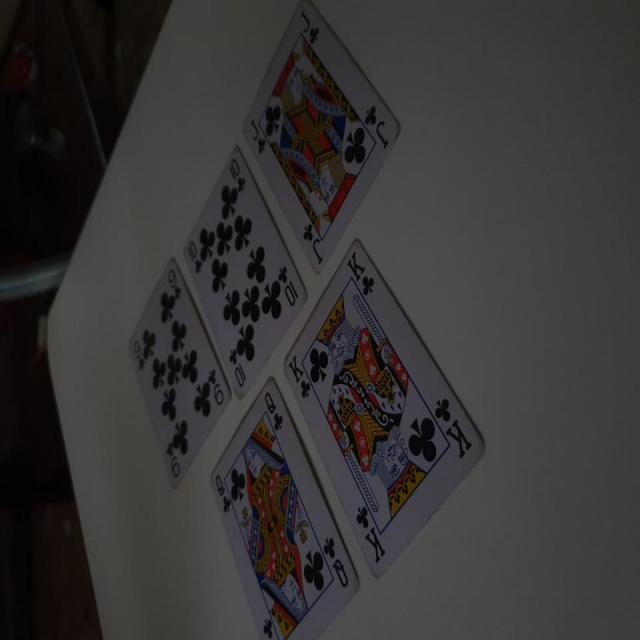10 Trefoils: (180, 145, 308, 403)
9 Trefoils: (130, 254, 230, 493)
J Trefoils: (240, 1, 400, 273)
K Trefoils: (283, 239, 486, 582)
Q Trefoils: (208, 375, 357, 640)
